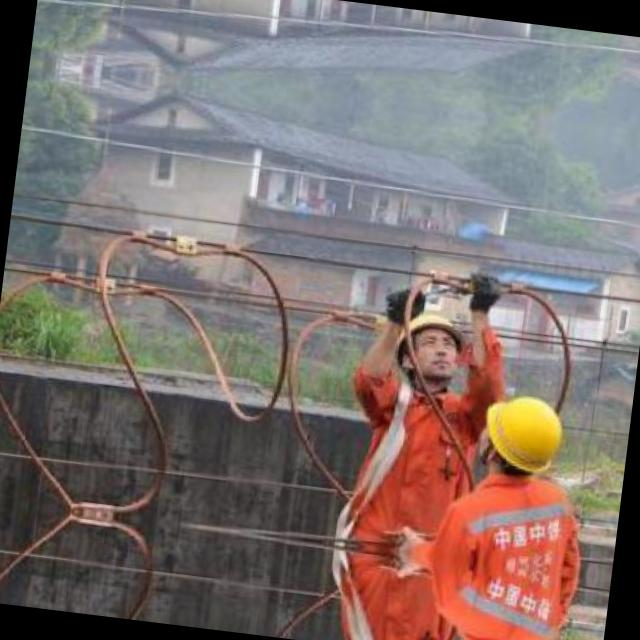helmet: (470, 382, 576, 488), (390, 294, 474, 389)
